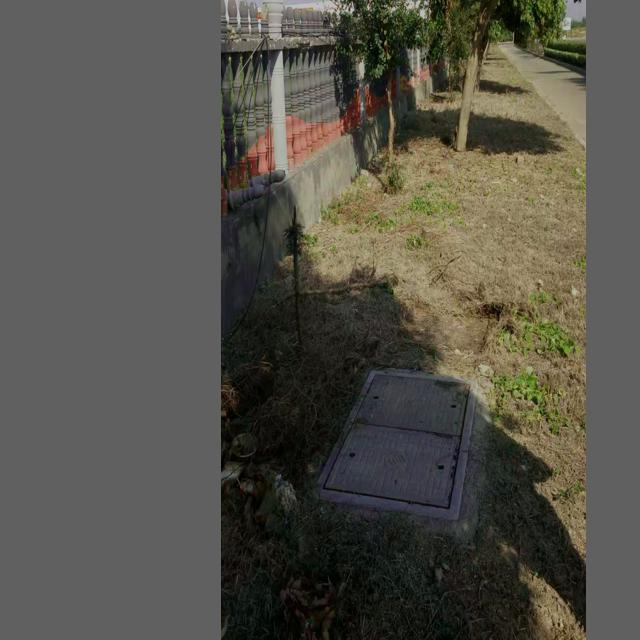good: (316, 369, 478, 519)
